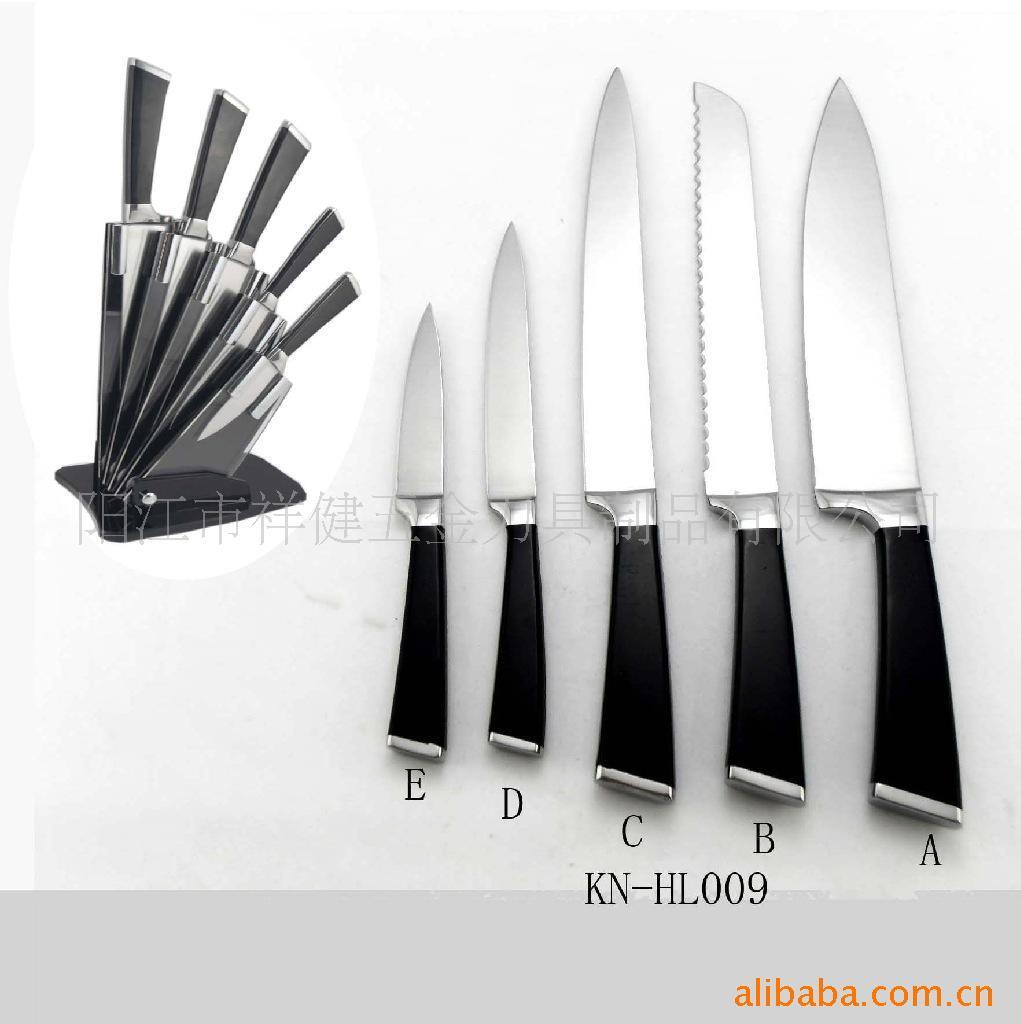knife: (376, 47, 1001, 872), (41, 37, 370, 608)
